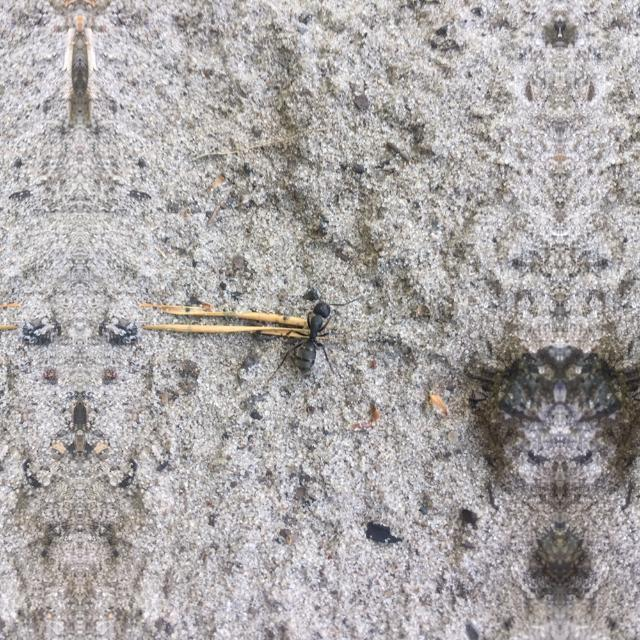Camponotus: (267, 282, 349, 381)
